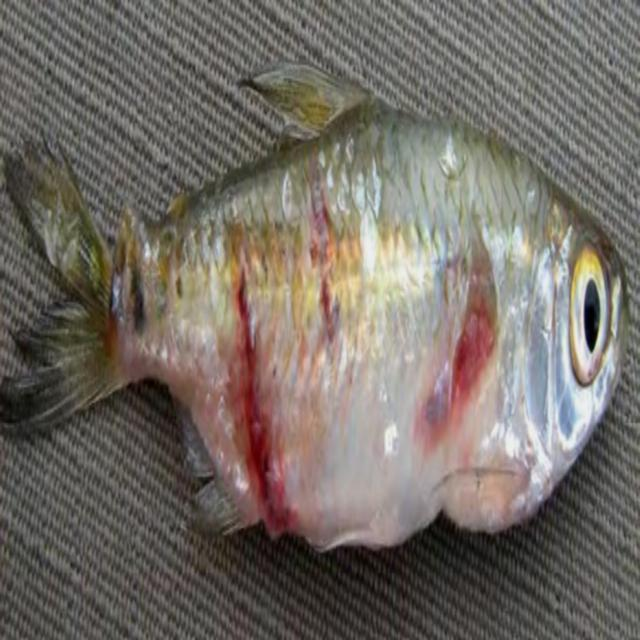EUS Disease: (4, 62, 640, 537), (410, 181, 536, 517), (182, 203, 288, 539), (38, 185, 168, 382), (293, 172, 372, 360)
